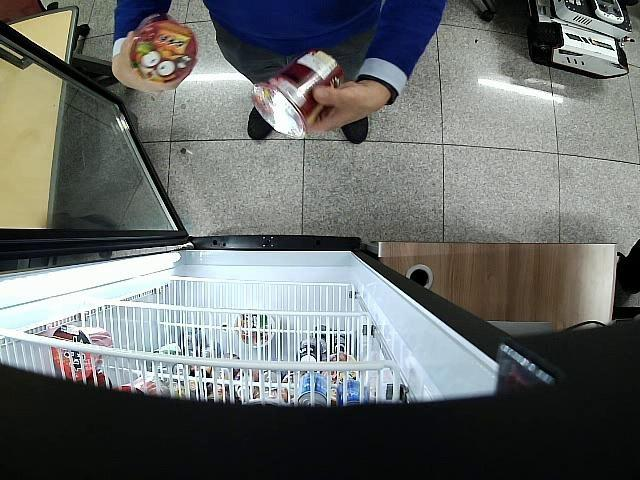06_nuguri_S: (252, 50, 344, 140), (130, 15, 197, 82)
